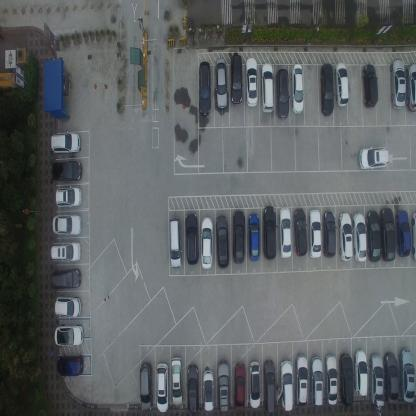car: (368, 353, 384, 412), (400, 347, 416, 404), (378, 209, 394, 264), (389, 59, 406, 110), (361, 62, 379, 110), (383, 352, 399, 405), (338, 353, 354, 406), (214, 213, 229, 269), (364, 212, 380, 264), (198, 60, 212, 119), (230, 209, 245, 264), (260, 62, 275, 117), (319, 63, 334, 117), (358, 146, 390, 171), (277, 207, 292, 260), (167, 216, 182, 269), (278, 359, 293, 412), (262, 206, 276, 262), (395, 208, 411, 257), (275, 70, 290, 122), (51, 128, 81, 154), (53, 322, 84, 347), (184, 211, 198, 266), (51, 158, 82, 182), (333, 62, 349, 108), (50, 267, 82, 290), (323, 354, 337, 406), (309, 356, 323, 408), (216, 360, 230, 412), (292, 209, 307, 257), (200, 215, 213, 270), (338, 211, 352, 262), (139, 361, 153, 412), (354, 346, 368, 397), (50, 241, 82, 263), (230, 52, 243, 106), (54, 295, 83, 319), (52, 213, 83, 235), (352, 213, 365, 265), (295, 353, 308, 405), (56, 353, 84, 377), (156, 361, 169, 412), (247, 212, 260, 262), (245, 58, 258, 108), (233, 362, 246, 412), (322, 210, 335, 259), (216, 58, 228, 111), (263, 359, 275, 412), (308, 209, 320, 261), (171, 355, 183, 407), (292, 63, 304, 114), (249, 360, 261, 410), (186, 362, 198, 412), (55, 186, 82, 206), (202, 368, 214, 412), (405, 62, 415, 112), (412, 210, 416, 264)
